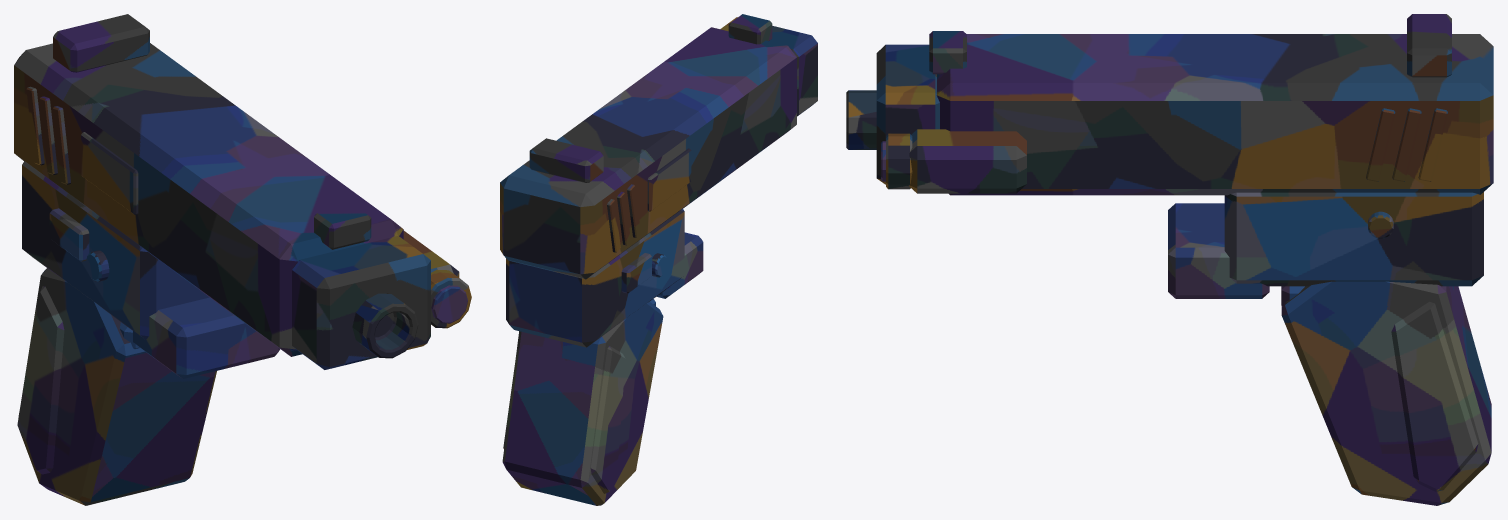
Rendered from M17_HardenedSteel.glb.
3 views of the same model, side by side, from view 1: azimuth 30°, elevation 25°; view 2: azimuth 150°, elevation 25°; view 3: azimuth 270°, elevation 25° (orthographic). The views are drawn at different scales.
Visible parts, largest first — view 1: FTF_Weapon_M17_DesertFlashlight_Mesh, FlashlightGlow; view 2: FTF_Weapon_M17_DesertFlashlight_Mesh; view 3: FTF_Weapon_M17_DesertFlashlight_Mesh.
Part boxes in pixels (x1,y1,x2,y2): FTF_Weapon_M17_DesertFlashlight_Mesh: (14,14,471,505); FlashlightGlow: (431,285,467,323); FTF_Weapon_M17_DesertFlashlight_Mesh: (500,14,817,505); FTF_Weapon_M17_DesertFlashlight_Mesh: (846,14,1493,505).
Size of the model in its own units: 0.258 by 0.6609 by 0.86.
Materials: 1 (1 with a texture image).
